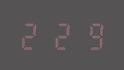nine: (77, 20, 105, 50)
two: (18, 20, 46, 50), (48, 20, 76, 50)
